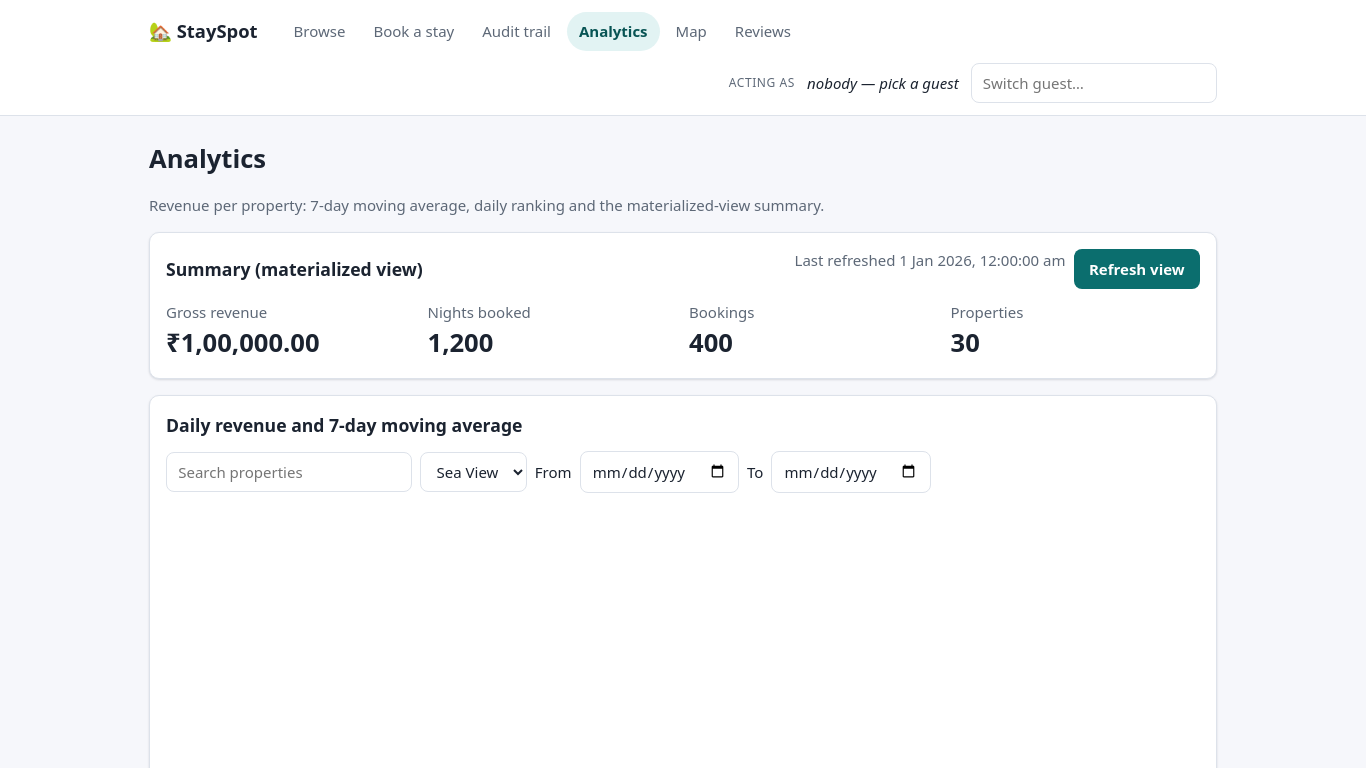
Scenario: Analytics › opens on the top-ranked property and draws the chart
This screenshot has width=1366, height=768.
Expected: the text "Gross revenue" is shown, [166,302,267,322]
Expected: the text "1,200" is shown, [428,325,493,360]
Step 1. Click the button "Refresh view" → [1137, 269], box [1074,249,1200,289]
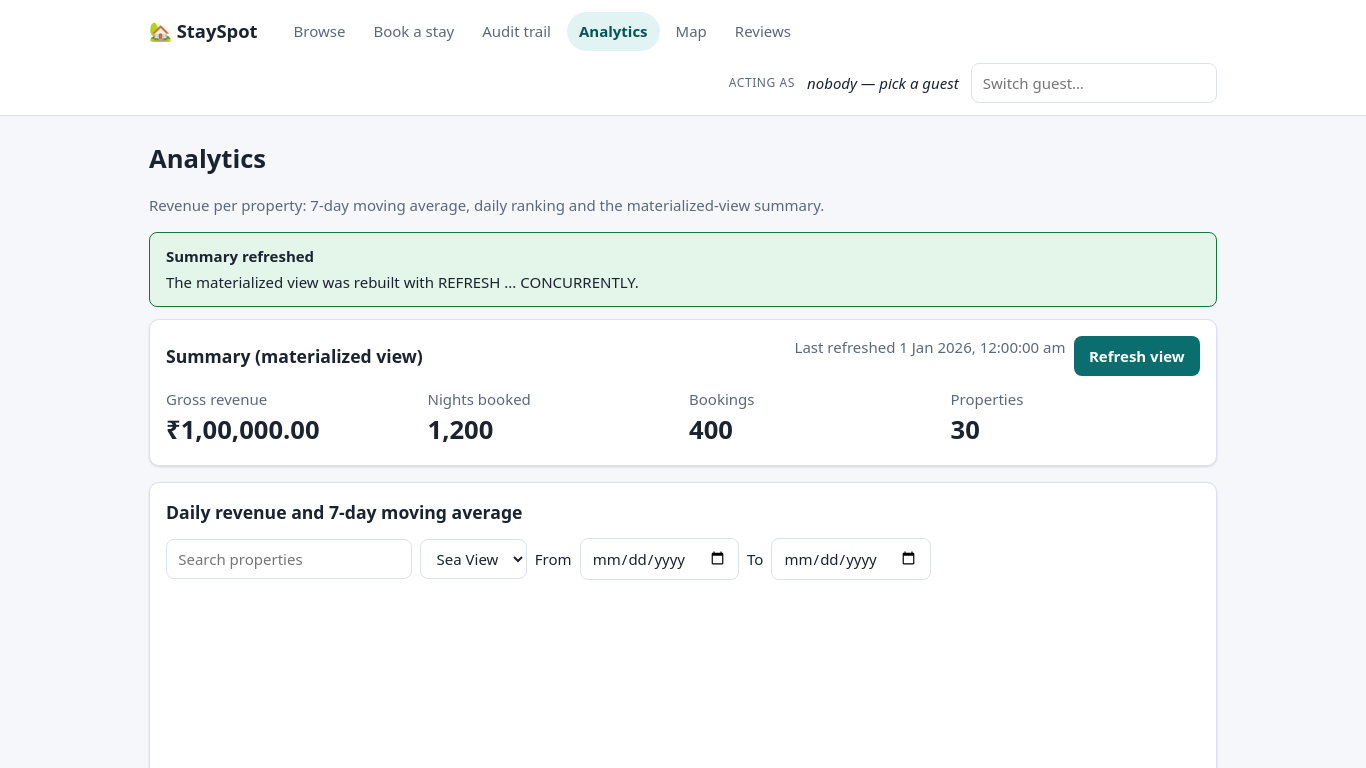
Result: the text "Summary refreshed" is shown at [166,246,314,266]
